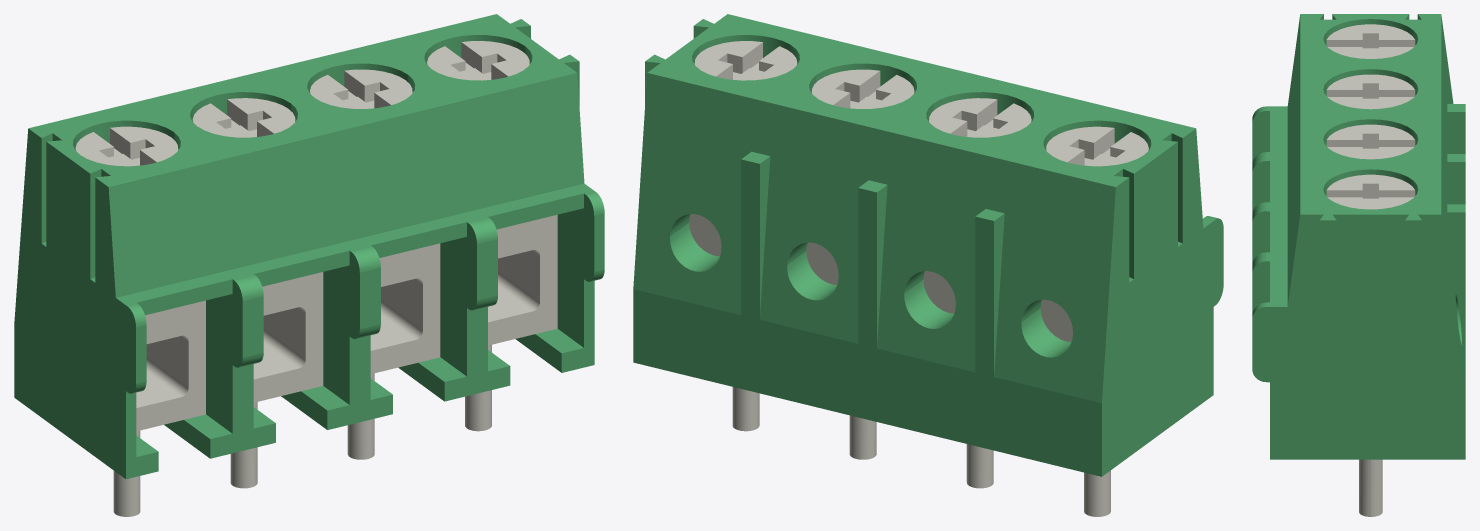
The model's file is kc-terminalblock_phoenix_pt-1_5-4-5.0-h_1x04_p5.00mm_horizontal.glb.
The picture shows the model from 3 angles, left to right: view 1: azimuth 30°, elevation 25°; view 2: azimuth 150°, elevation 25°; view 3: azimuth 270°, elevation 25°; orthographic projection. The views are drawn at different scales.
Parts seen in each view (by area): view 1: 0.08333333333333333_0.4166666666666667_0.16666666666666666_0, 0.6666666666666666_0.6666666666666666_0.5833333333333334_0.8; view 2: 0.08333333333333333_0.4166666666666667_0.16666666666666666_0, 0.6666666666666666_0.6666666666666666_0.5833333333333334_0.8; view 3: 0.08333333333333333_0.4166666666666667_0.16666666666666666_0, 0.6666666666666666_0.6666666666666666_0.5833333333333334_0.8.
Part boxes in pixels (x1,y1,x2,y2): 0.08333333333333333_0.4166666666666667_0.16666666666666666_0: (14, 14, 604, 479); 0.6666666666666666_0.6666666666666666_0.5833333333333334_0.8: (75, 41, 557, 516); 0.08333333333333333_0.4166666666666667_0.16666666666666666_0: (633, 14, 1223, 476); 0.6666666666666666_0.6666666666666666_0.5833333333333334_0.8: (689, 41, 1148, 516); 0.08333333333333333_0.4166666666666667_0.16666666666666666_0: (1252, 14, 1465, 459); 0.6666666666666666_0.6666666666666666_0.5833333333333334_0.8: (1326, 24, 1415, 516).
Size of the model in its own units: 2.06 by 1.5 by 0.9.
